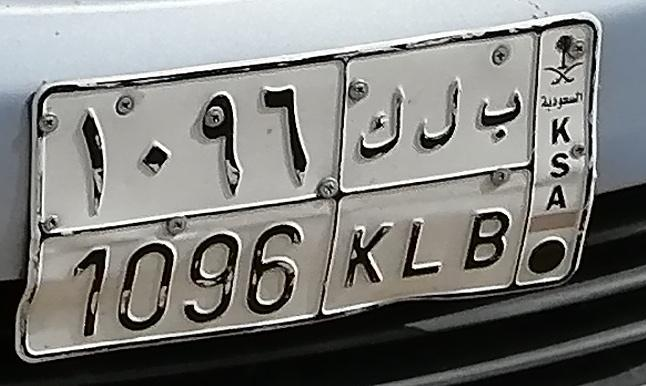0: (115, 139, 177, 333)
1: (63, 107, 111, 341)
6: (240, 82, 310, 320)
9: (182, 86, 242, 325)
B: (462, 88, 524, 272)
K: (341, 87, 403, 292)
L: (402, 76, 467, 282)
